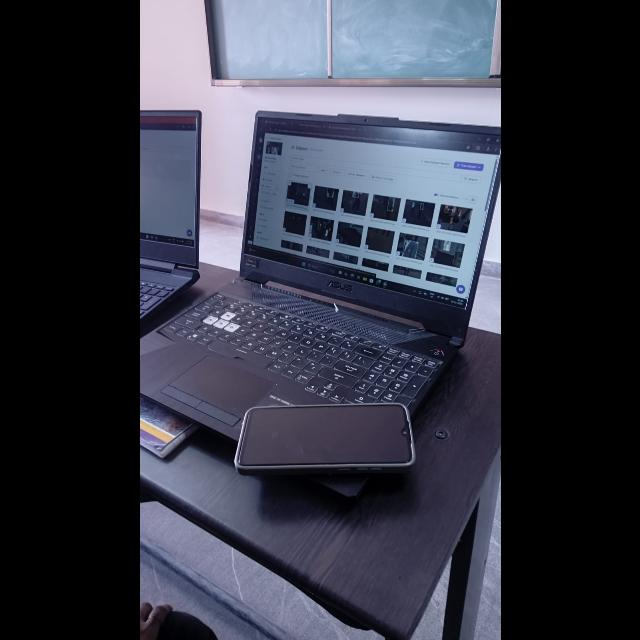laptop: (242, 81, 500, 376), (138, 95, 216, 317)
